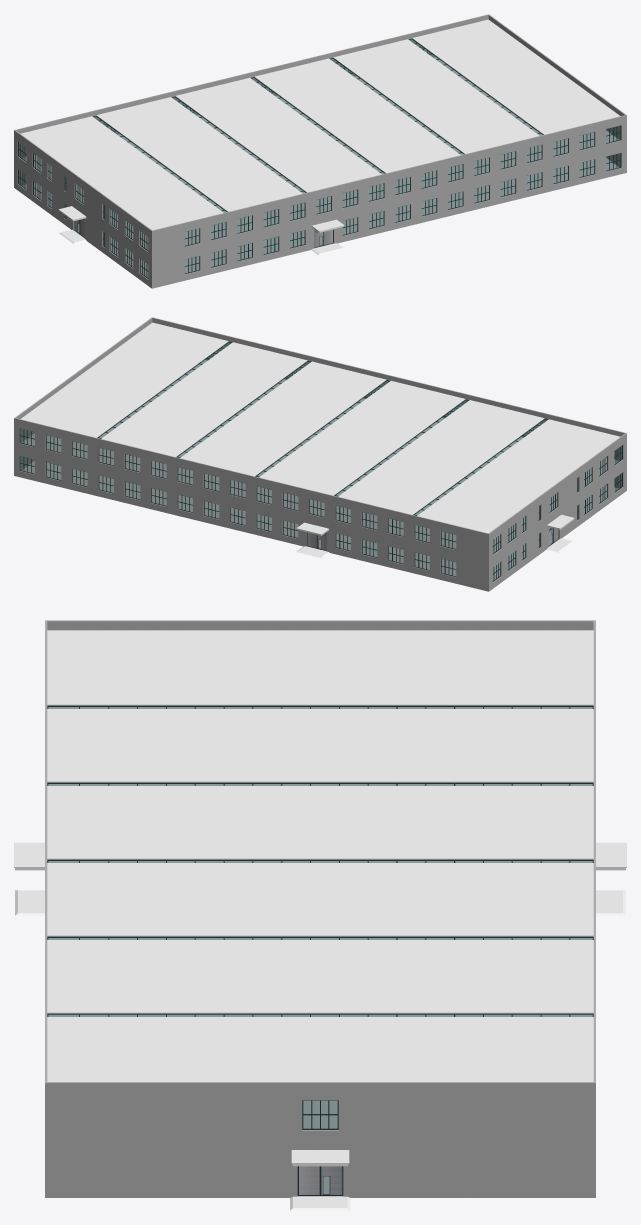
The model's file is chagfangbaise2.fbx.
3 views of the same model, one above another, from view 1: azimuth 30°, elevation 25°; view 2: azimuth 150°, elevation 25°; view 3: azimuth 270°, elevation 25° (orthographic). The views are drawn at different scales.
Parts seen in each view (by area): view 1: Box2166, Box02, Box01, Box03, Box1822, Box1836, Box1835, Rectangle1678; view 2: Box2166, Box02, Box01, Box03, Box1822, Box1836, Box1835, Rectangle1678; view 3: Box2166, Box02, Box01, Box03, Box1822, Box1836, Box1835, Rectangle1678.
Part boxes in pixels (x1,y1,x2,y2): Box2166: (20,19,620,230); Box02: (14,14,626,288); Box01: (19,39,620,277); Box03: (22,57,618,277); Box1822: (18,38,621,278); Box1836: (58,206,344,232); Box1835: (59,230,344,255); Rectangle1678: (74,218,332,247); Box2166: (20,322,620,533); Box02: (14,317,626,591); Box01: (20,342,621,580); Box03: (22,360,618,580); Box1822: (19,341,622,581); Box1836: (296,514,574,535); Box1835: (296,538,573,558); Rectangle1678: (308,527,558,550); Box2166: (47,630,593,1081); Box02: (45,620,595,1197); Box01: (48,707,592,1194); Box03: (48,707,592,1194); Box1822: (47,705,593,1195); Box1836: (14,842,626,1166); Box1835: (15,890,625,1210); Rectangle1678: (299,1166,342,1194).
Size of the model in its own units: 91.49 by 10.04 by 48.48.
Materials: 6 (2 with a texture image).
